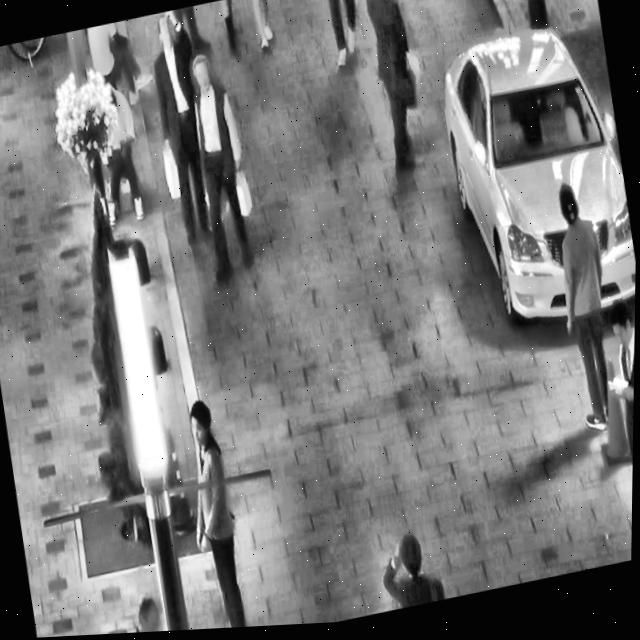light_vehicle: (423, 0, 640, 352)
